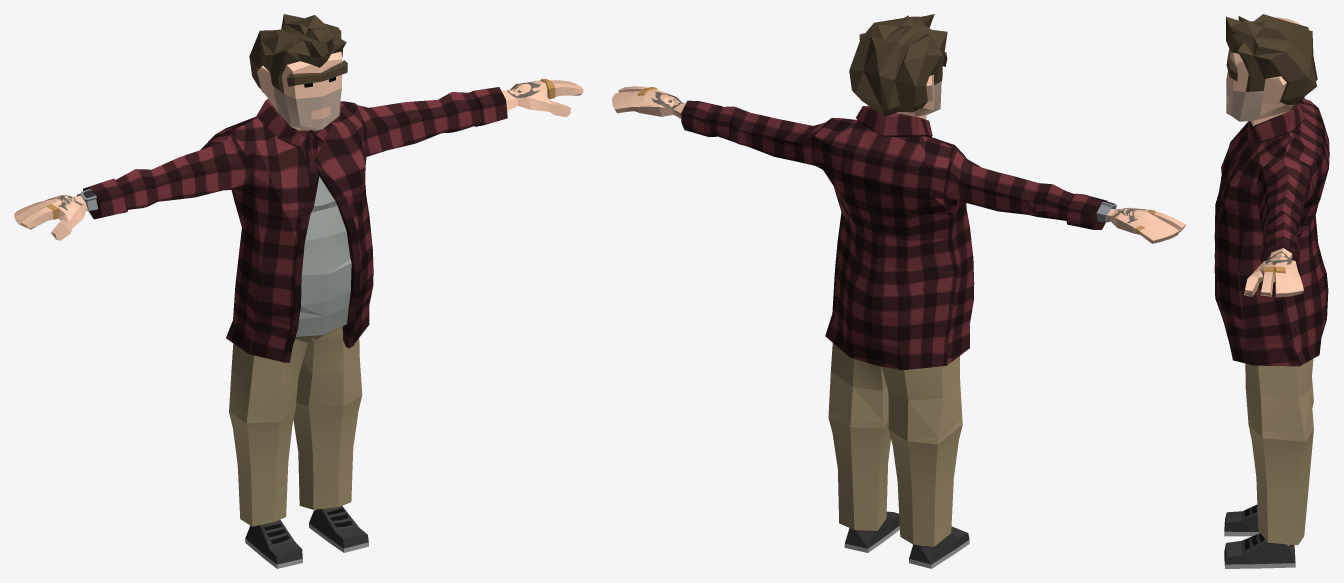
The model's file is katil.fbx.
The picture shows the model from 3 angles, left to right: view 1: azimuth 30°, elevation 25°; view 2: azimuth 150°, elevation 25°; view 3: azimuth 270°, elevation 25°; orthographic projection.
Parts seen in each view (by area): view 1: SK_Chr_DEA_Agent_Male_02_SK_Chr_DEA_Agent_Male_01; view 2: SK_Chr_DEA_Agent_Male_02_SK_Chr_DEA_Agent_Male_01; view 3: SK_Chr_DEA_Agent_Male_02_SK_Chr_DEA_Agent_Male_01.
Part boxes in pixels (box(x1,y1,x2,y2)): SK_Chr_DEA_Agent_Male_02_SK_Chr_DEA_Agent_Male_01: box(14, 14, 583, 568); SK_Chr_DEA_Agent_Male_02_SK_Chr_DEA_Agent_Male_01: box(612, 14, 1185, 568); SK_Chr_DEA_Agent_Male_02_SK_Chr_DEA_Agent_Male_01: box(1214, 14, 1329, 568).
Size of the model in its own units: 205 by 182 by 36.06.
1 material, 1 textured.
